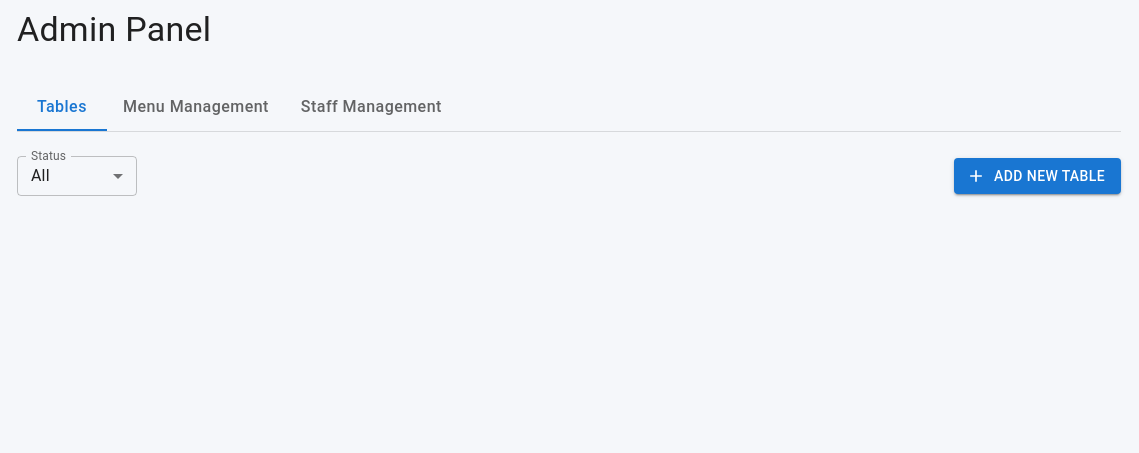
AdminPage › handles tab switching to Staff Management
The width and height of the screenshot is (1139, 453).
Click the tab "Staff Management" at (371, 107), box [285,83,458,131]
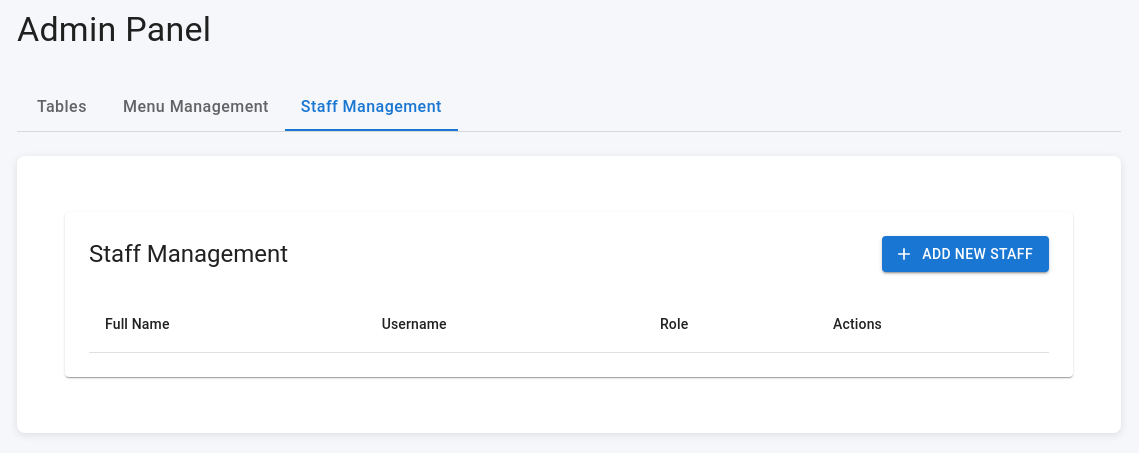
Result: the heading "Staff Management" is shown at [89,238,288,270]
